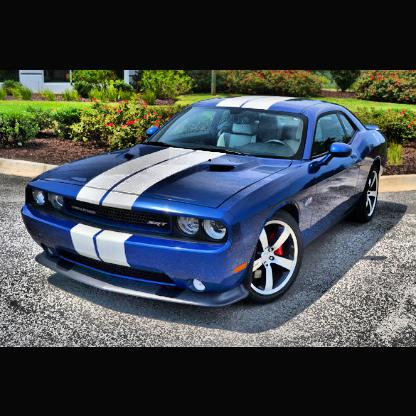Dodge Challenger SRT8 2011: (23, 97, 388, 308)
